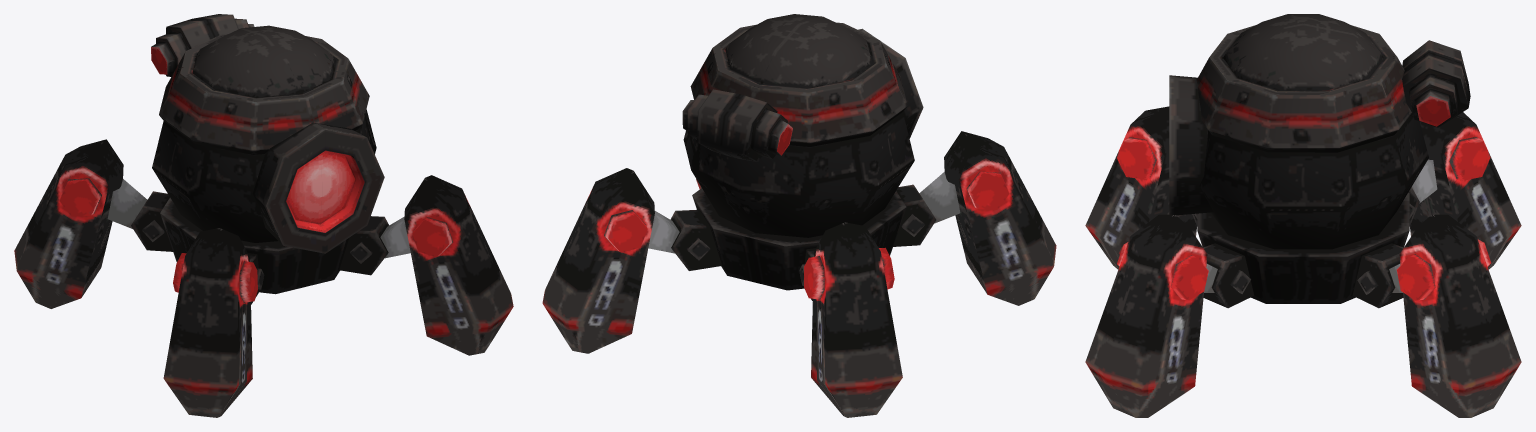
The model's file is sithdrone_8b518f00.glb.
The picture shows the model from 3 angles, left to right: view 1: azimuth 30°, elevation 25°; view 2: azimuth 150°, elevation 25°; view 3: azimuth 270°, elevation 25°; orthographic projection. The views are drawn at different scales.
Bounding box in the file's own units: 0.9851 × 0.7869 × 0.9781.
1 material, 1 textured.
